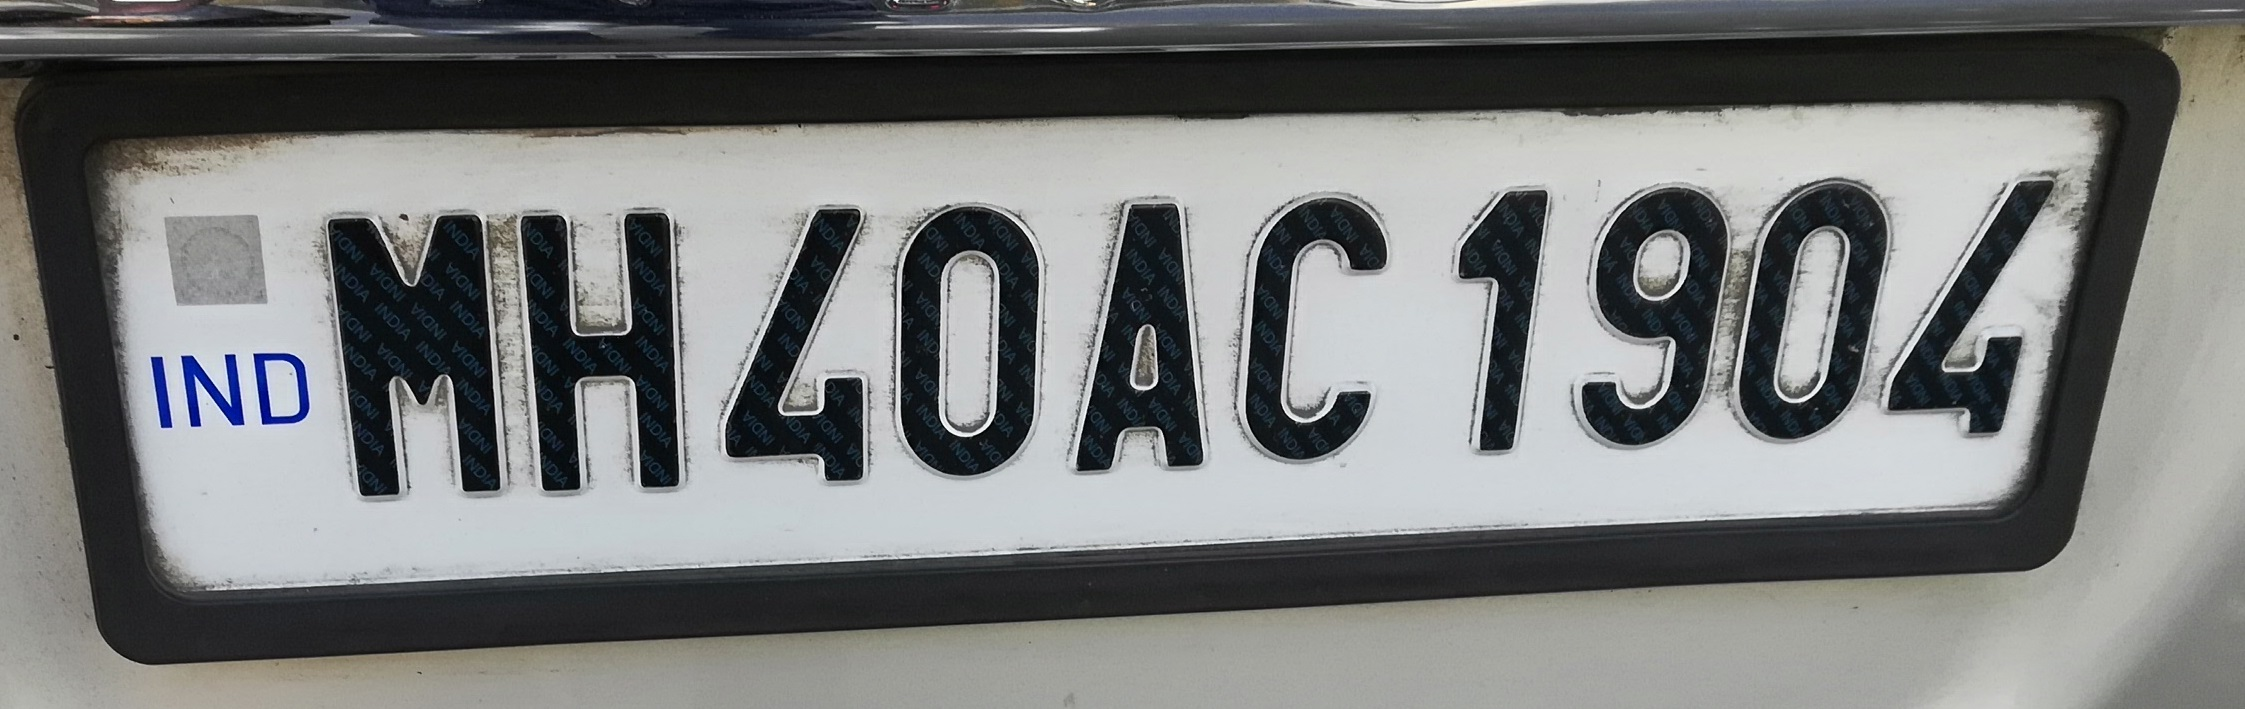numberplate: (41, 51, 2170, 663)
